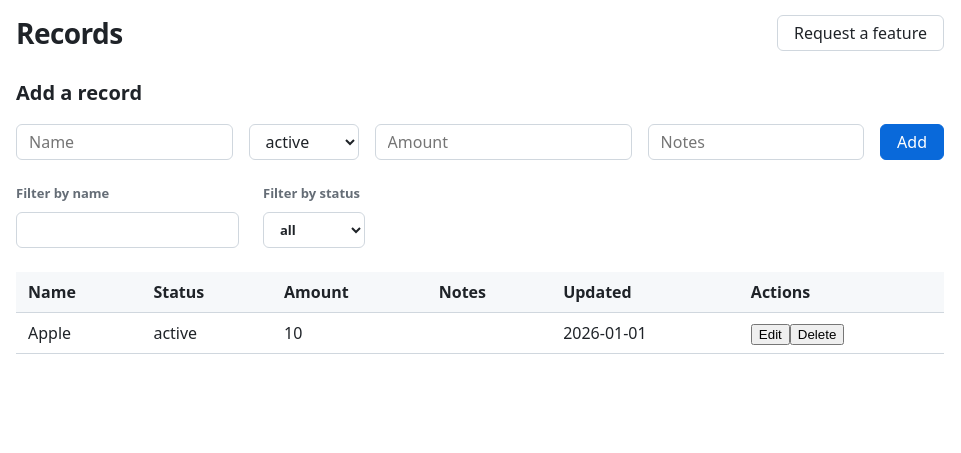
Scenario: DAN-28 tester · created row honors active filter and sort › a created row that matches the active name filter appears; one that does not stays hidden
Expected: the text "Apple" is shown, [16, 312, 141, 353]
// Filter to names containing "ap" — matches Apple.
Type "ap" into the search field labelled "Filter by name".
click(128, 230); type("ap")  # box [16, 212, 239, 248]
Type "Apricot" into the field named "New name".
click(124, 142); type("Apricot")  # box [16, 124, 232, 160]
Type "3" into the number field named "New amount".
click(503, 142); type("3")  # box [374, 124, 632, 160]
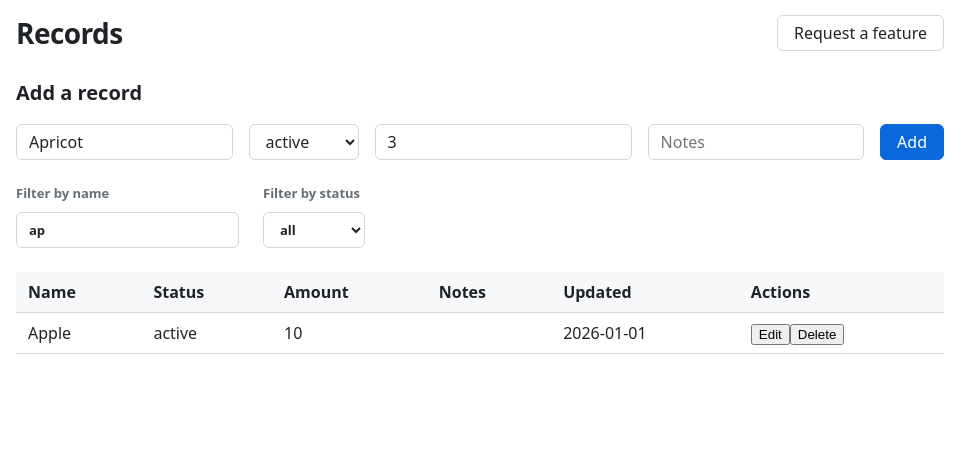
Click the button "Add".
click(912, 142)  # box [880, 124, 944, 160]
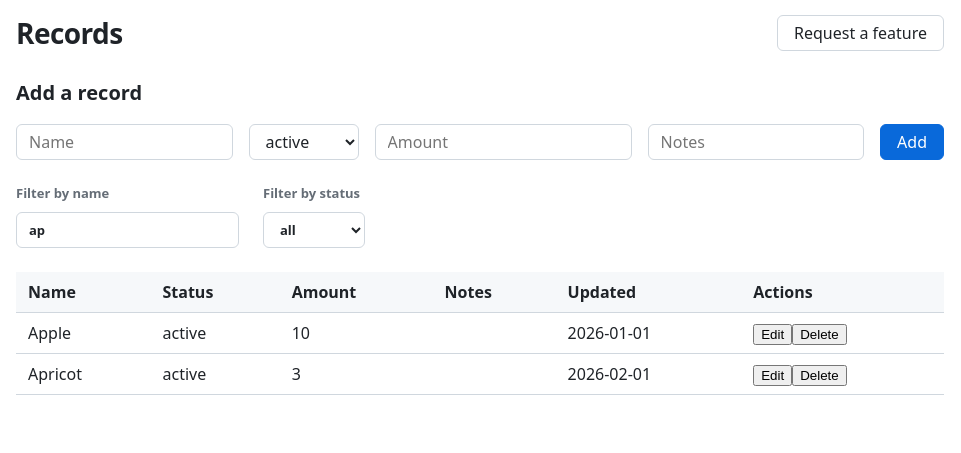
Result: the text "Apricot" is shown at [16, 353, 150, 394]
Type "Cherry" into the field named "New name".
click(124, 142); type("Cherry")  # box [16, 124, 232, 160]
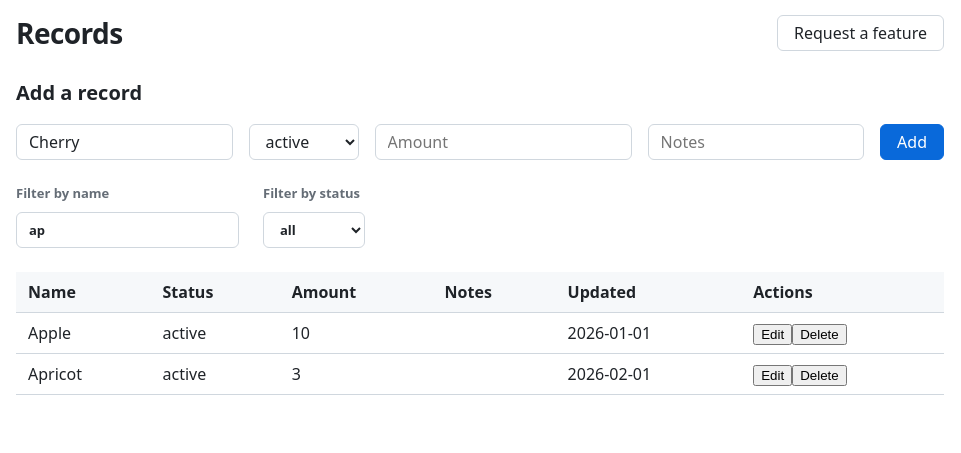
Type "4" into the number field named "New amount".
click(503, 142); type("4")  # box [374, 124, 632, 160]
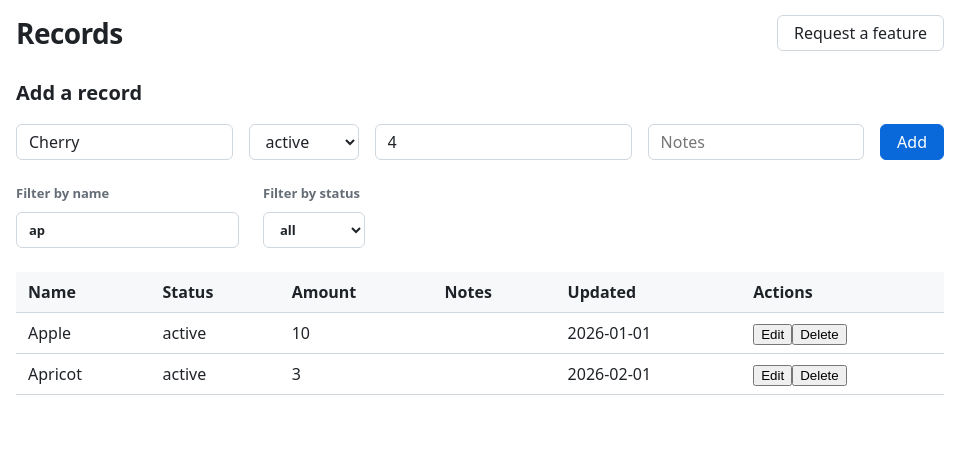
Click the button "Add".
click(912, 142)  # box [880, 124, 944, 160]
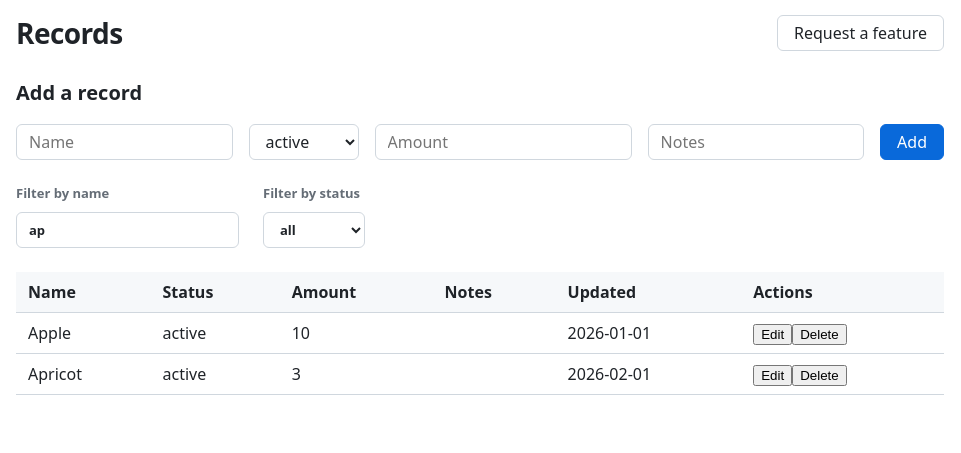
Expected: the text "Cherry" is not shown
// Clearing the filter reveals the hidden created row.
Clear the search field labelled "Filter by name" at (128,230), box [16, 212, 239, 248]
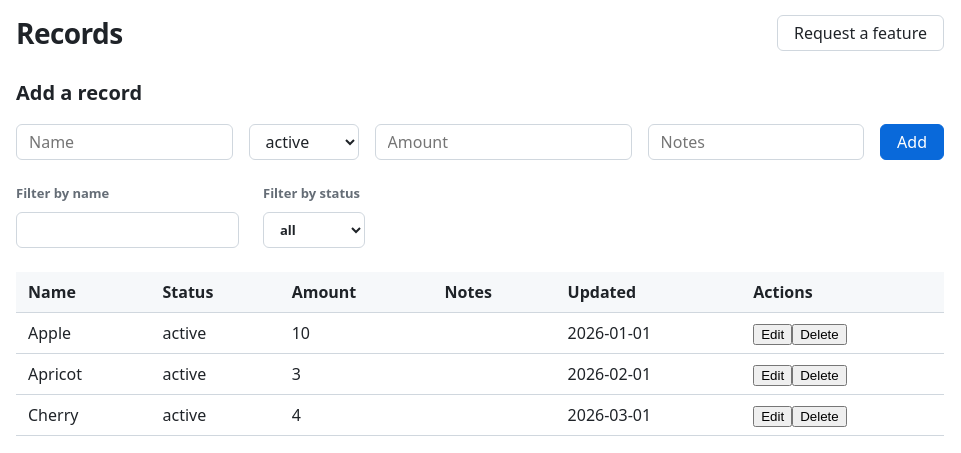
Result: the text "Cherry" is shown at [16, 394, 150, 435]
